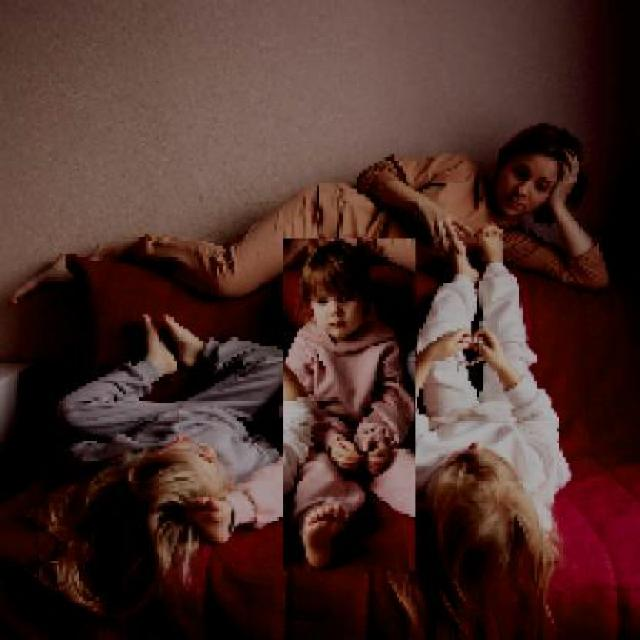child: (379, 222, 575, 638), (38, 312, 296, 618), (282, 238, 416, 572)
